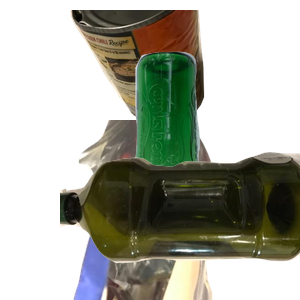glass: (129, 49, 300, 229)
metal: (68, 10, 265, 131)
plastic: (60, 149, 300, 300)
trash: (63, 120, 300, 300)
